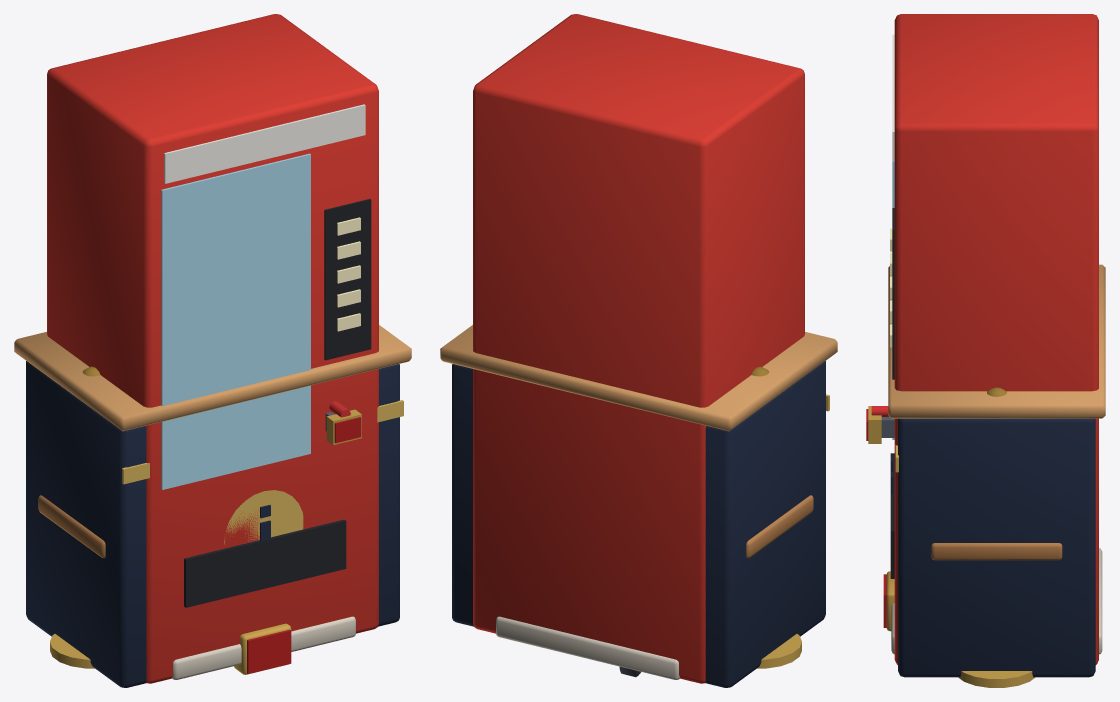
File: museum.glb
3 views of the same model, side by side, from view 1: azimuth 30°, elevation 25°; view 2: azimuth 150°, elevation 25°; view 3: azimuth 270°, elevation 25° (orthographic).
Parts seen in each view (by area): view 1: vending, desk, pedestal, stampgun, bench, curator__armR, rope; view 2: vending, desk, pedestal, bench, rope; view 3: vending, desk, bench, rope, curator__armR, pedestal, stampgun.
Boxes of the visible parts, x1,y1,x2,y2 form: vending: (47, 14, 378, 683); desk: (14, 325, 411, 687); pedestal: (172, 616, 355, 679); stampgun: (234, 623, 291, 674); bench: (38, 495, 105, 558); curator__armR: (325, 401, 361, 445); rope: (50, 366, 100, 668); vending: (473, 14, 804, 683); desk: (440, 325, 837, 687); pedestal: (496, 616, 679, 679); bench: (746, 495, 813, 558); rope: (751, 366, 801, 668); vending: (890, 14, 1098, 664); desk: (888, 264, 1105, 677); bench: (931, 543, 1062, 560); rope: (958, 387, 1035, 687); curator__armR: (866, 406, 894, 443); pedestal: (891, 548, 1102, 654); stampgun: (883, 571, 894, 631).
Bounding box in the file's own units: 1.1 × 1.98 × 0.726.
